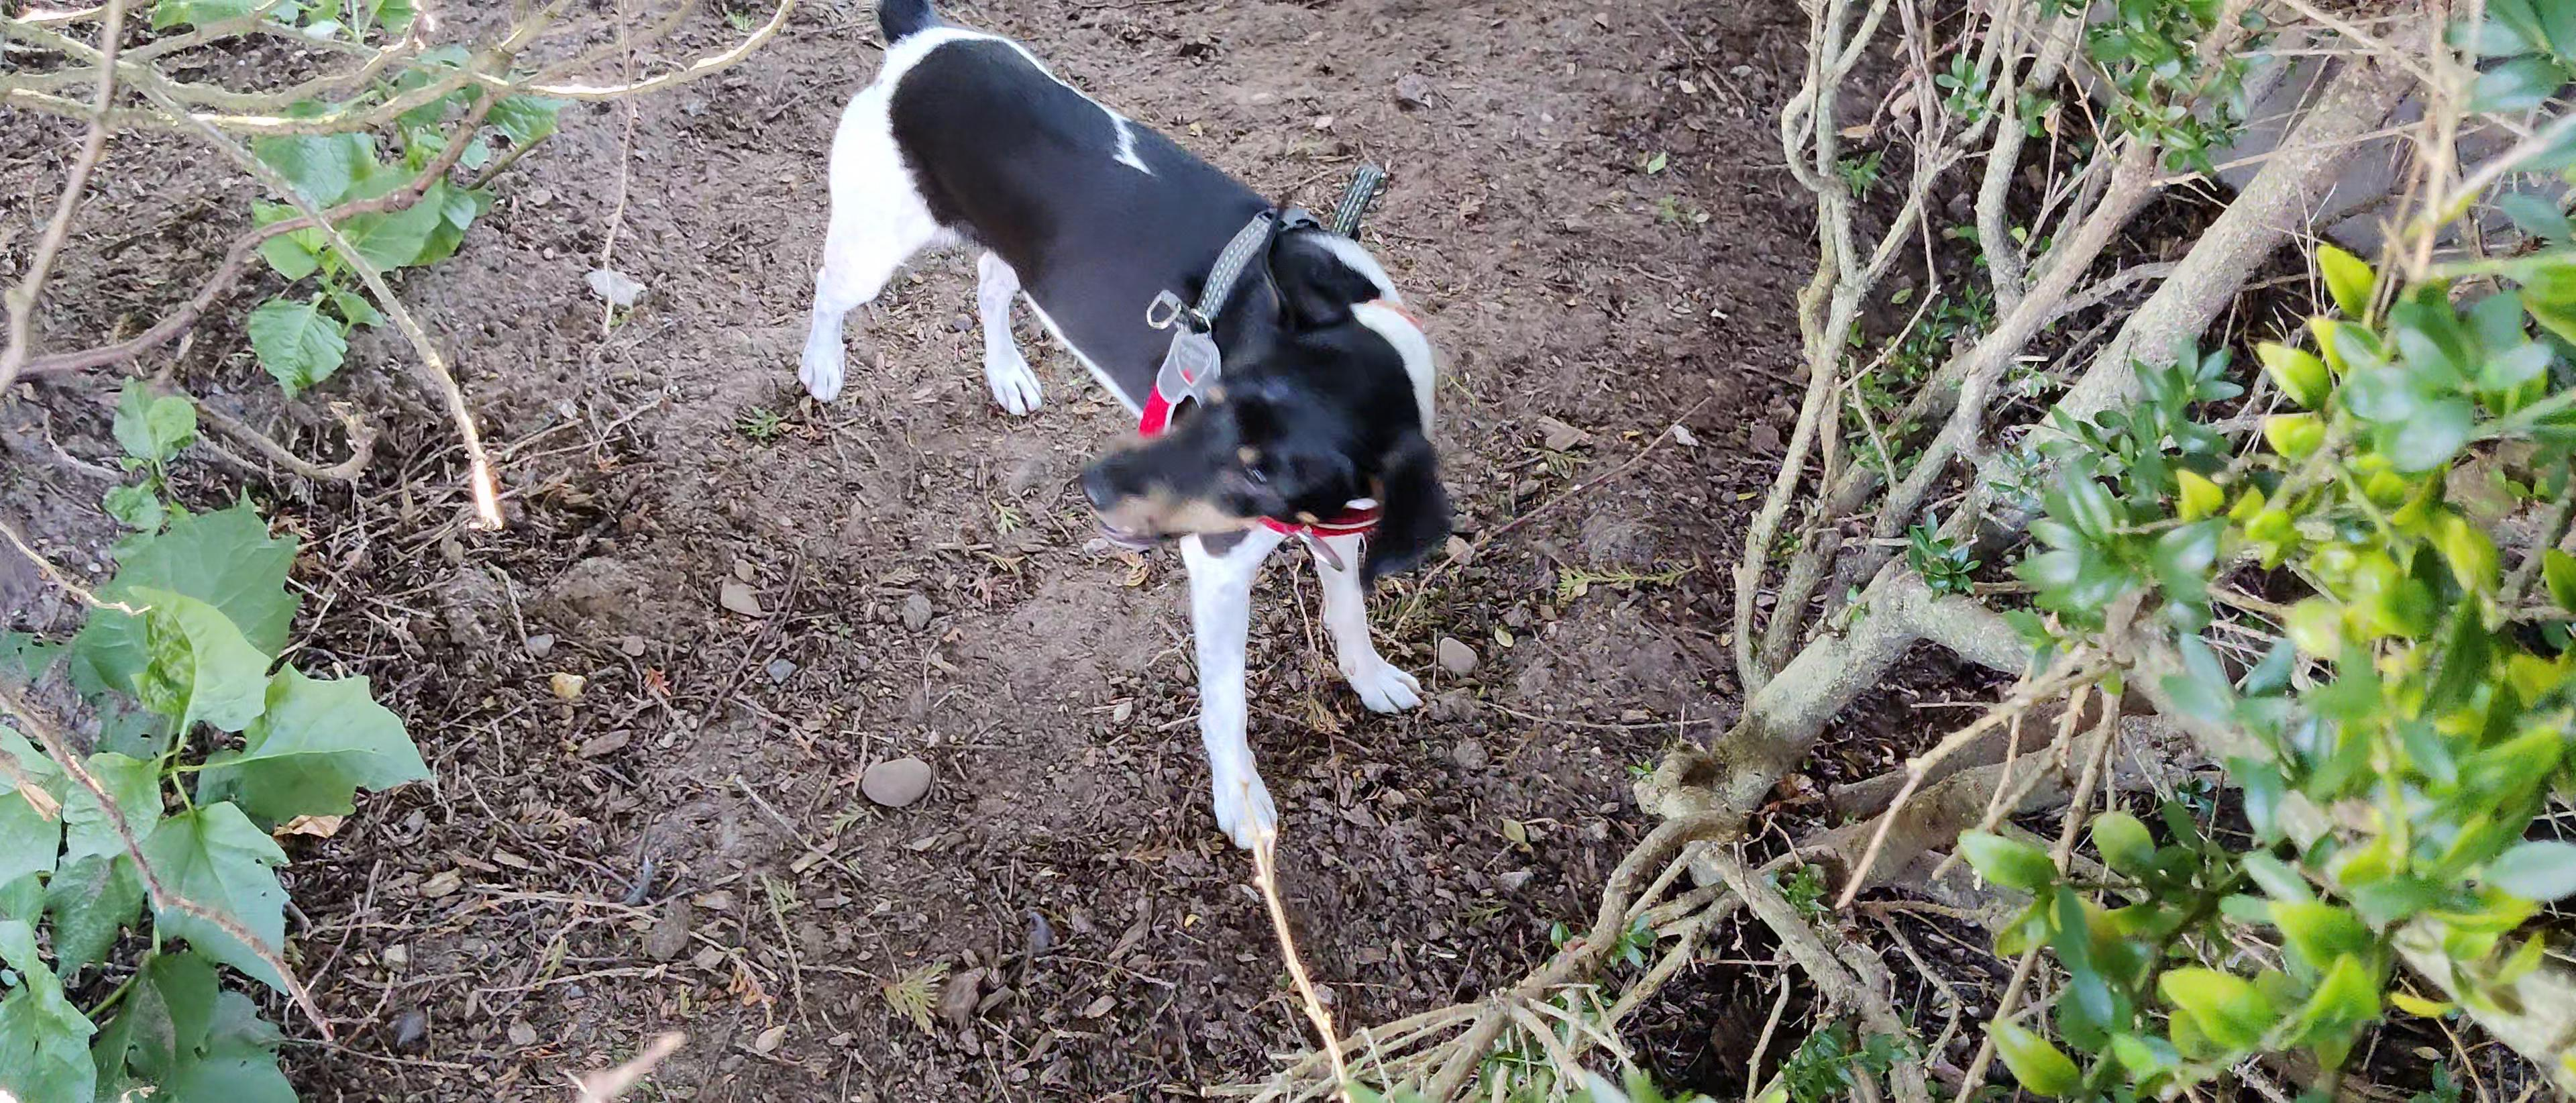Dog: (772, 0, 1521, 873)
